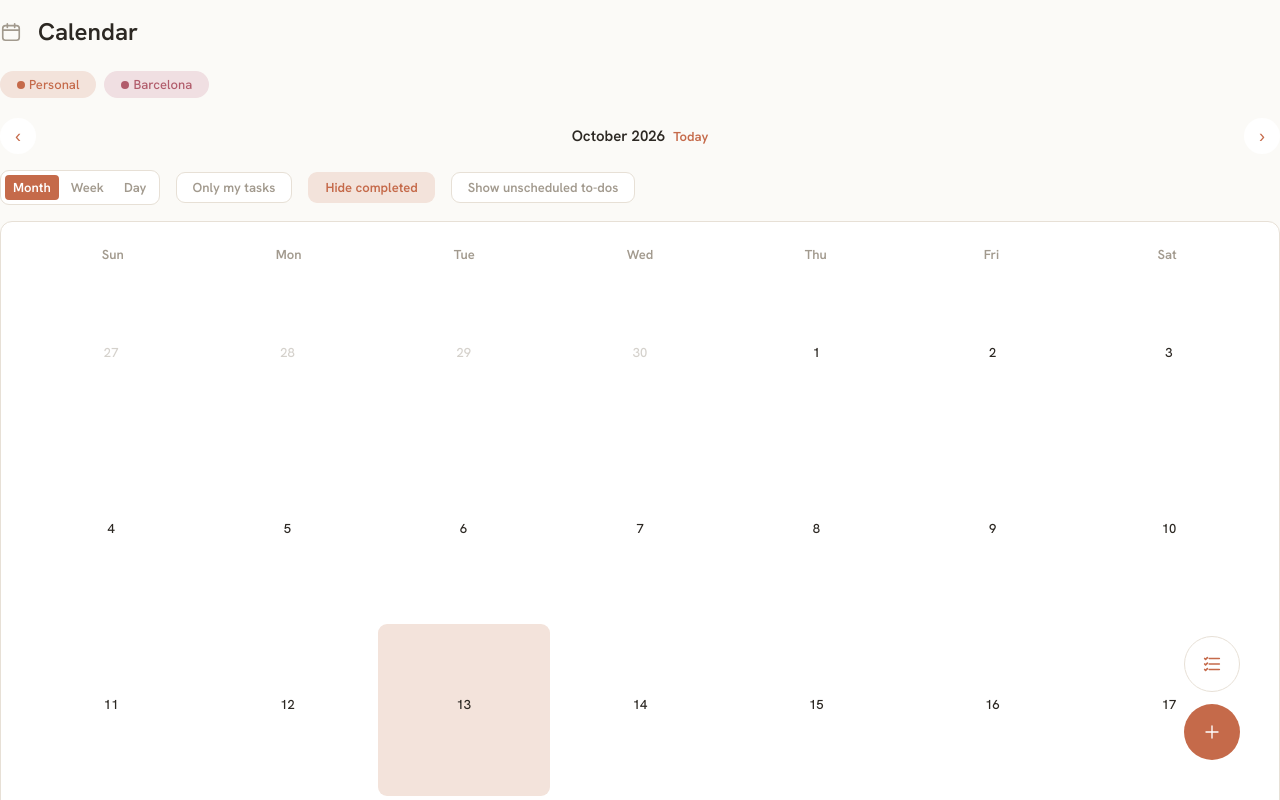
Scenario: CalendarPage › creating an item › opens a new to-do in the default list from the Add to-do button
The width and height of the screenshot is (1280, 800).
Click the button named "Add to-do" at [1212, 664], box x1=1184 y1=636 x2=1240 y2=692
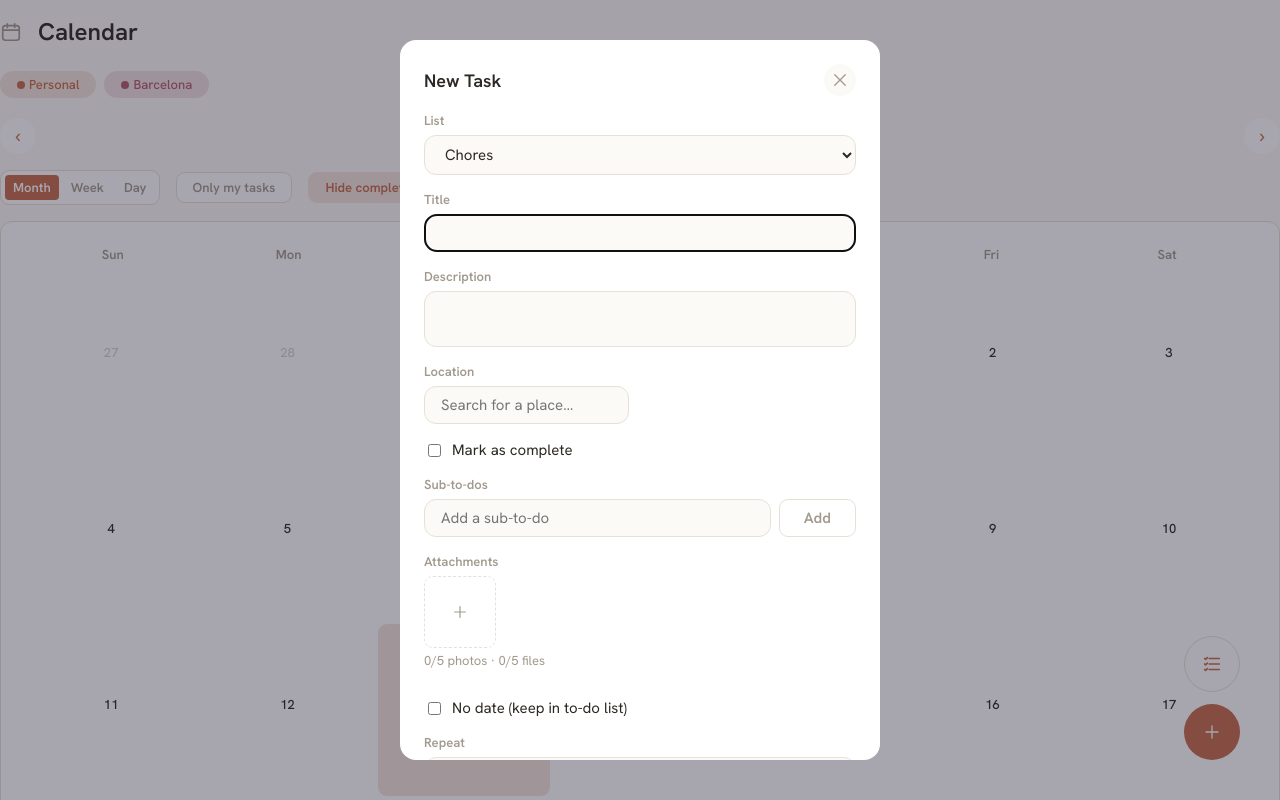
Expected: the heading "New Task" is shown, x1=424 y1=68 x2=501 y2=92
Expected: the dropdown labelled "List" shows "Chores", x1=424 y1=135 x2=856 y2=175
